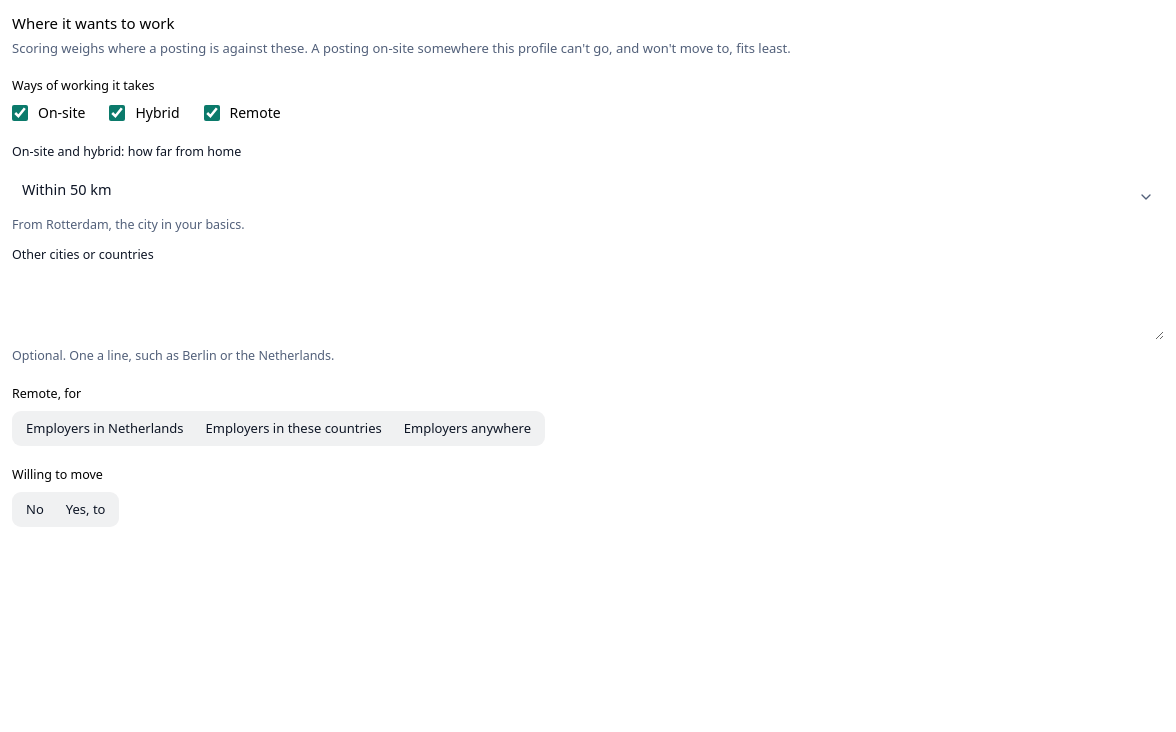
Test: WorkplaceField (E24-4) › needs at least one way of working, and hides what a way it doesn't take would ask
This screenshot has width=1176, height=732.
Click the checkbox labelled "On-site". click: (20, 114)
box: left=12, top=106, right=28, bottom=122
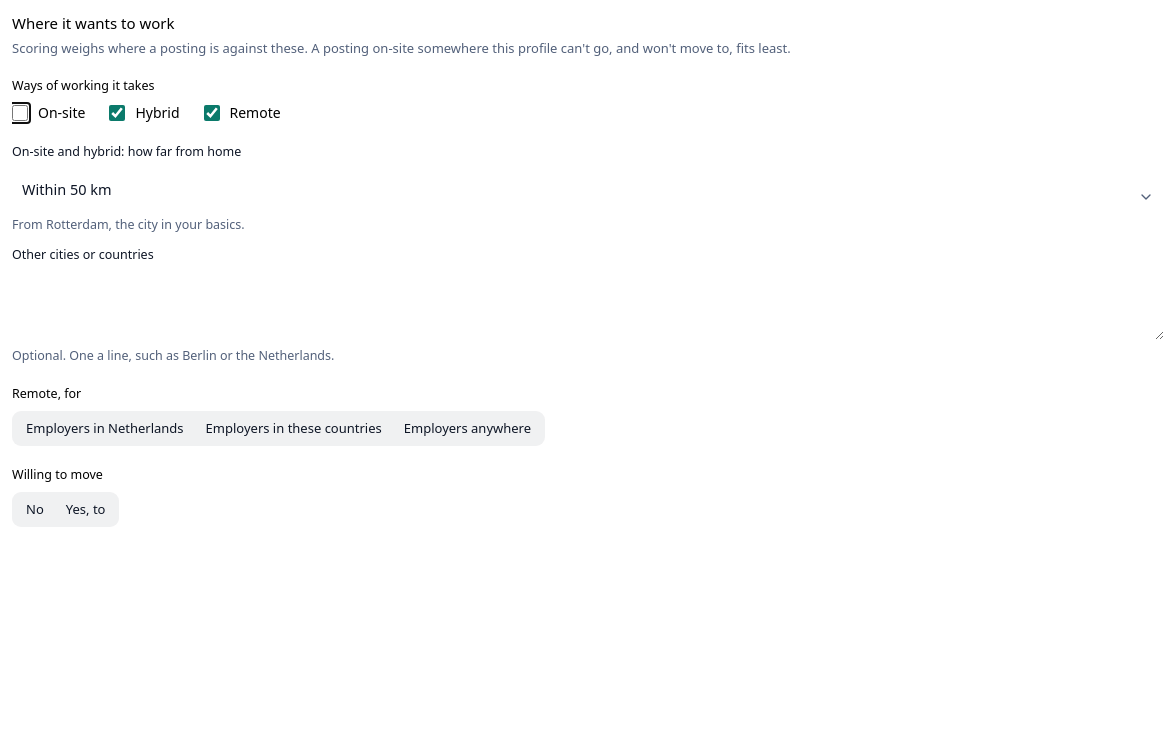
Click the checkbox labelled "Hybrid". click: (117, 114)
box: left=109, top=106, right=125, bottom=122
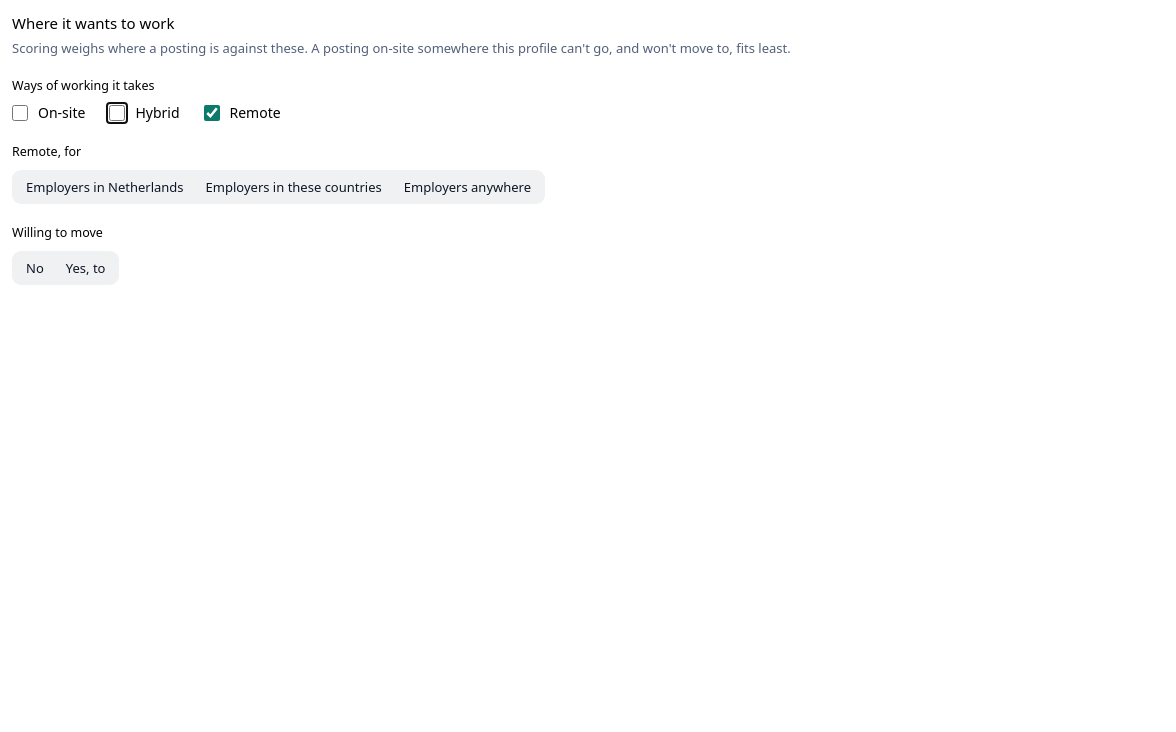
expect the label labelled "On-site and hybrid: how far from home" is gone: met
Click the checkbox labelled "Remote". click: (212, 114)
box: left=204, top=106, right=220, bottom=122
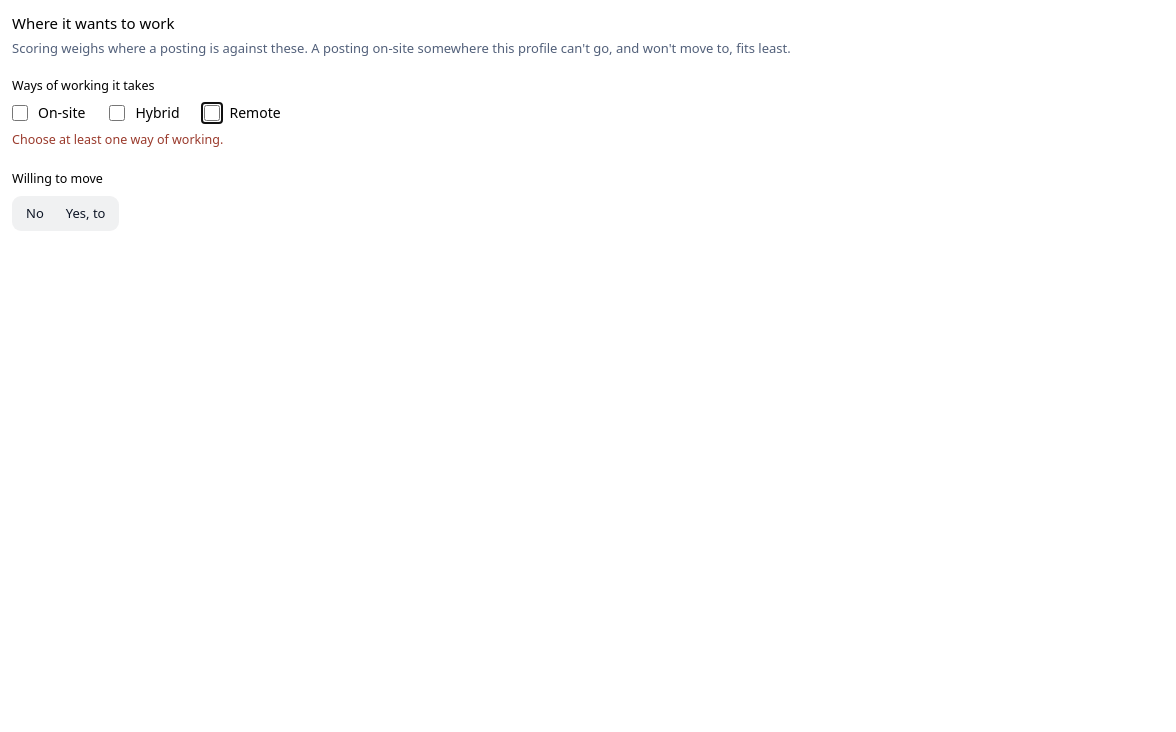
expect the message reads "Choose at least one way of working.": met, box left=12, top=132, right=223, bottom=148
